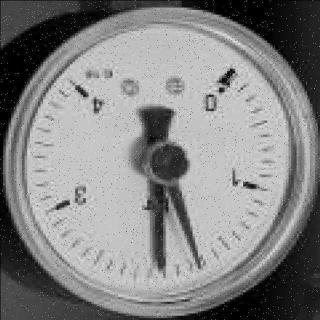gauge: (0, 6, 320, 317), (197, 54, 244, 115), (142, 138, 192, 183), (70, 78, 102, 114), (151, 247, 171, 274), (190, 252, 207, 272)
